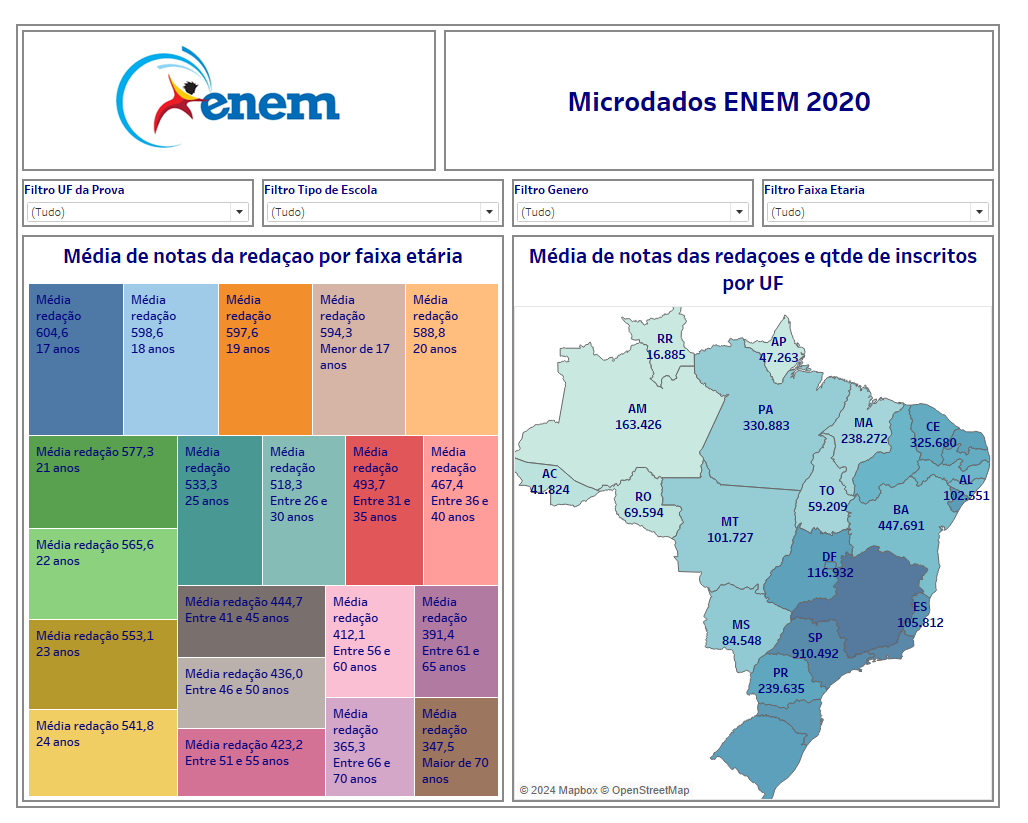

The dashboard page shown, as its layout file describes it:
{"tool":"tableau","page":{"name":"Painel Notas Redacao","canvas":[1000,800],"ordinal":2},"visuals":[{"type":"image","param":"C:/Users/s038431376/Documents/GitHub/Teste-Analista-de-Dados-SX/Tableau/microdad","box":[10,10,422,149]},{"type":"text","box":[432,10,558,149]},{"type":"filter","title":"RedacaoFaixaEtaria","param":"[federated.03f40a11b8pgvu12wiwvm0h3p6bn].[none:SG_UF_PROVA:nk]","box":[10,159,240,56]},{"type":"filter","title":"RedacaoFaixaEtaria","param":"[federated.03f40a11b8pgvu12wiwvm0h3p6bn].[none:Calculation_1276770556918001664:n","box":[250,159,250,56]},{"type":"filter","title":"RedacaoFaixaEtaria","param":"[federated.03f40a11b8pgvu12wiwvm0h3p6bn].[none:Tipo Escola (cópia)_1497728413907","box":[500,159,250,56]},{"type":"filter","title":"RedacaoFaixaEtaria","param":"[federated.03f40a11b8pgvu12wiwvm0h3p6bn].[none:Tipo Escola (cópia)_7095984793682","box":[750,159,240,56]},{"type":"worksheet","title":"RedacaoFaixaEtaria","mark":"Square","box":[10,215,490,575]},{"type":"worksheet","title":"MapaNotasRedacao","mark":"Automatic","box":[500,215,490,575]}]}

Visuals, with their boxes in screenshot pixels (x1, y1, x2, y2), scaled from the page's 1000x800 canvas onto the 1028x823 screenshot:
image: [left=10, top=10, right=444, bottom=164]
text: [left=444, top=10, right=1018, bottom=164]
"RedacaoFaixaEtaria" filter: [left=10, top=164, right=257, bottom=221]
"RedacaoFaixaEtaria" filter: [left=257, top=164, right=514, bottom=221]
"RedacaoFaixaEtaria" filter: [left=514, top=164, right=771, bottom=221]
"RedacaoFaixaEtaria" filter: [left=771, top=164, right=1018, bottom=221]
"RedacaoFaixaEtaria" worksheet (Square marks): [left=10, top=221, right=514, bottom=813]
"MapaNotasRedacao" worksheet: [left=514, top=221, right=1018, bottom=813]
